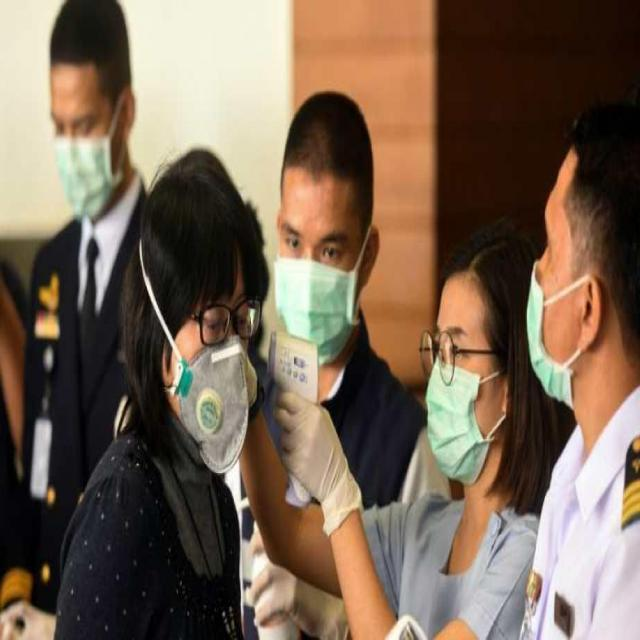face: (522, 100, 637, 434), (270, 83, 392, 370), (424, 266, 512, 493), (174, 248, 257, 474), (48, 60, 122, 222)
